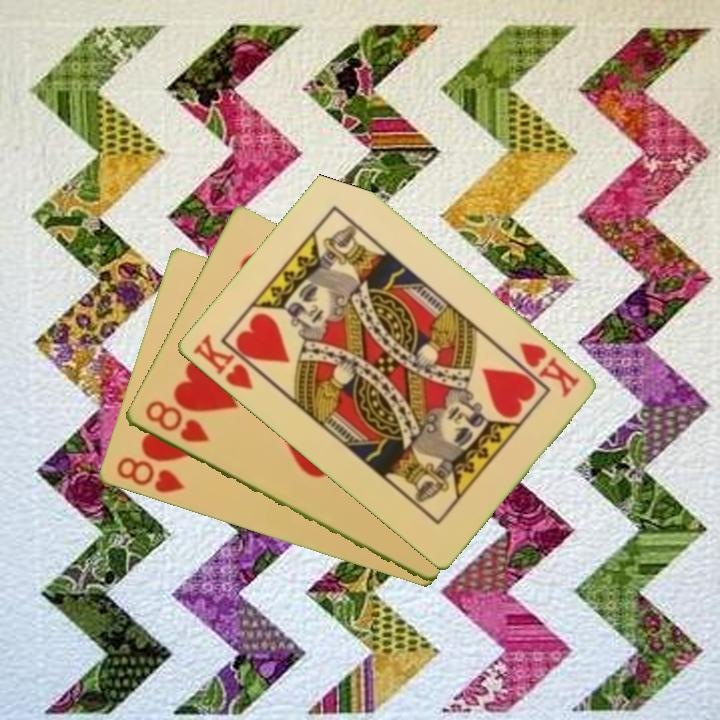8h: (141, 397, 212, 446), (112, 454, 187, 497)
Kh: (188, 330, 269, 393), (514, 338, 582, 401)
